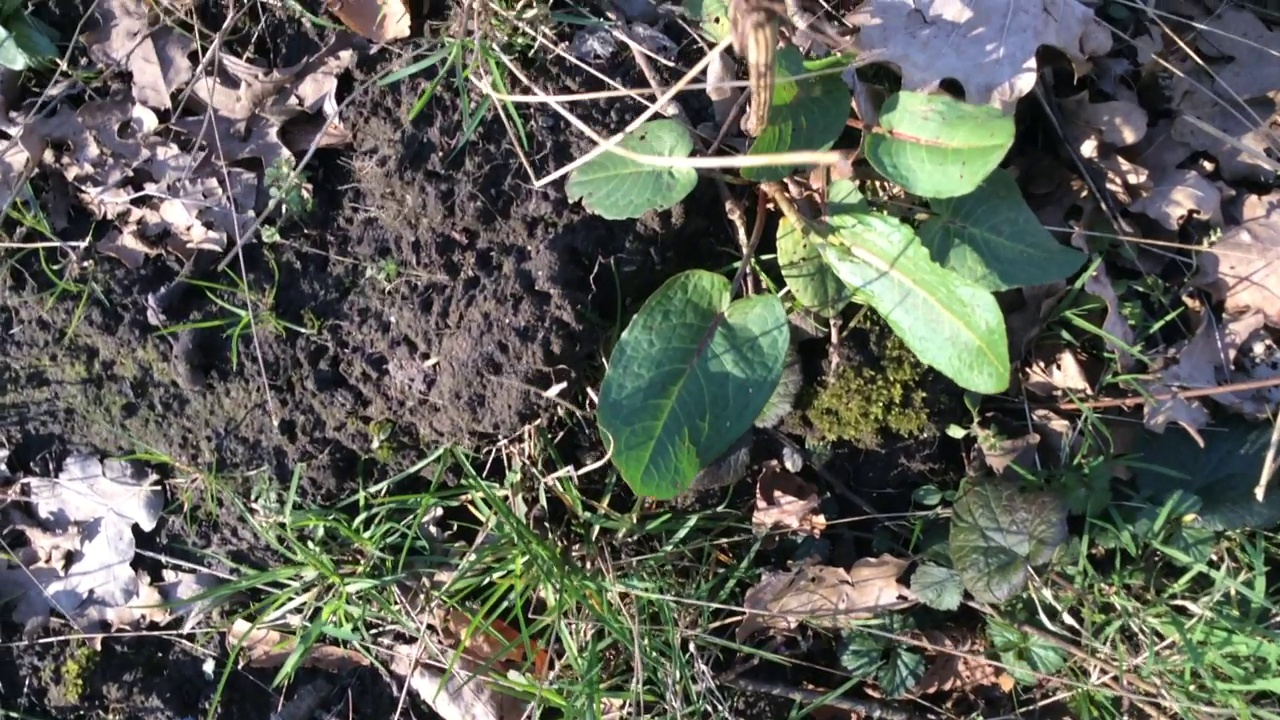rumex: (565, 45, 1089, 499)
